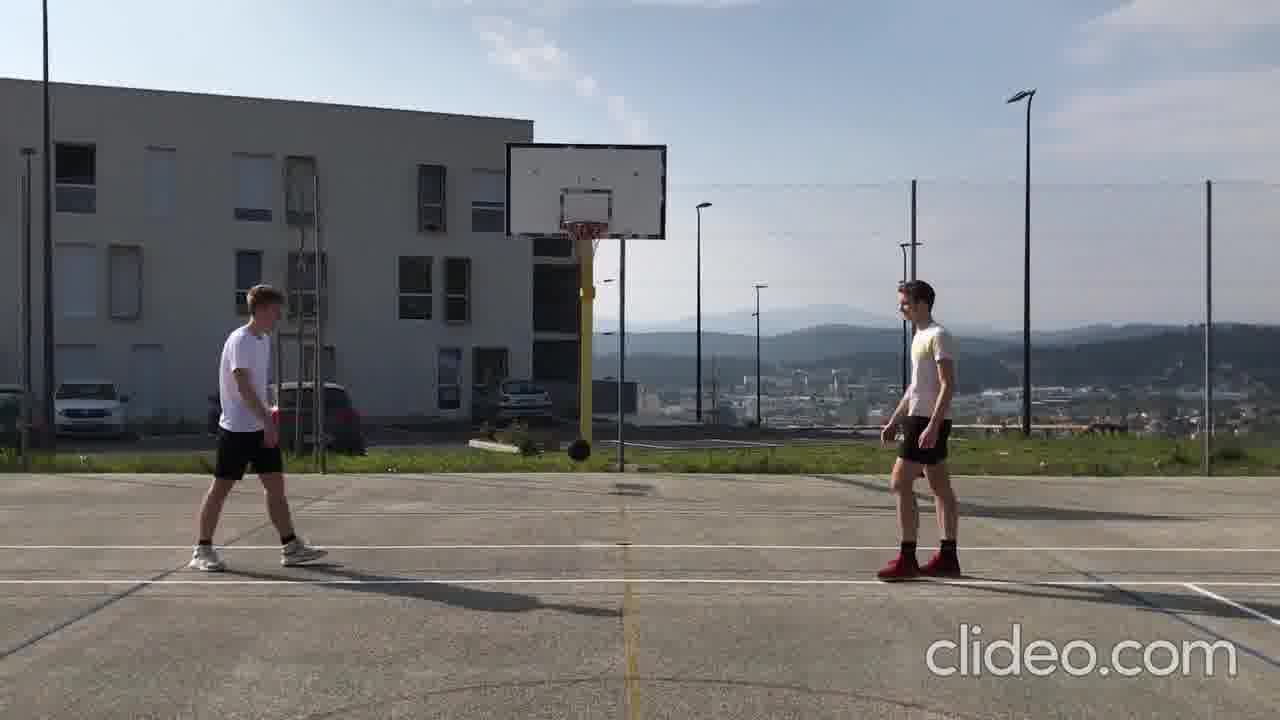jugador: (870, 269, 975, 594)
